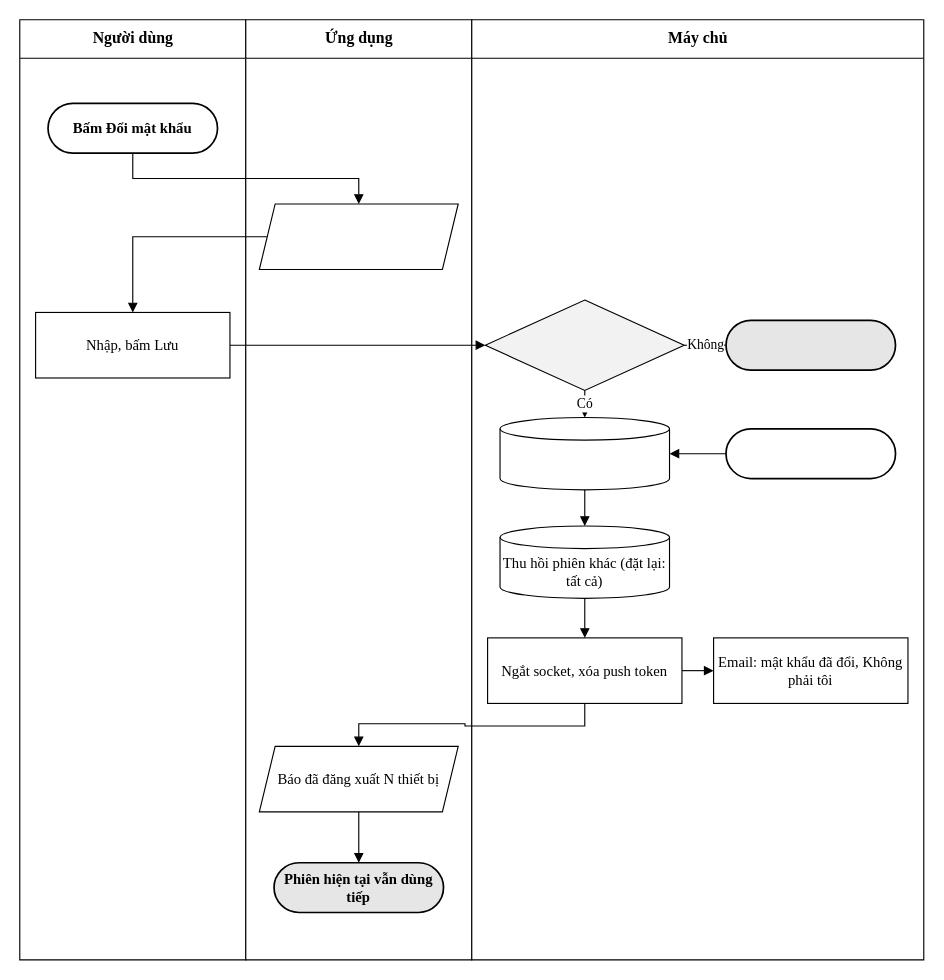
This 944x980 diagram has some shape labels left out. Each missing label, with the centre of its shape:
"400, tính vào A4" goes at point (810, 344).
"Hoặc: Quên mật khẩu" goes at point (810, 453).
"Lưu mật khẩu mới (bcrypt)" goes at point (584, 453).
"Mật khẩu cũ đúng?" goes at point (584, 344).
"Nhập mật khẩu cũ, mới, xác nhận" goes at point (358, 236).
